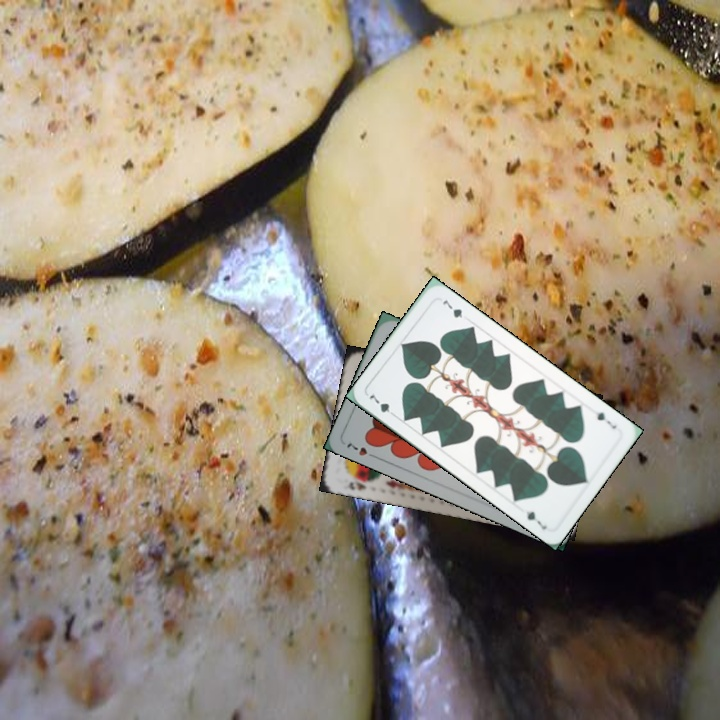G7: (365, 389, 399, 420), (592, 408, 619, 431)
H7: (343, 439, 380, 461)
SK: (345, 473, 376, 493)
